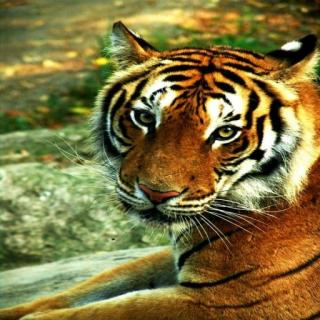Tiger: (17, 14, 320, 320)
